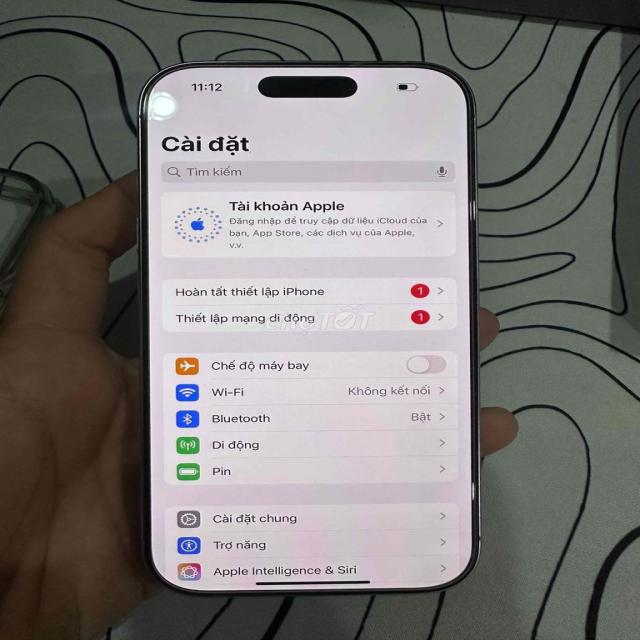gen_16: (136, 61, 479, 594)
